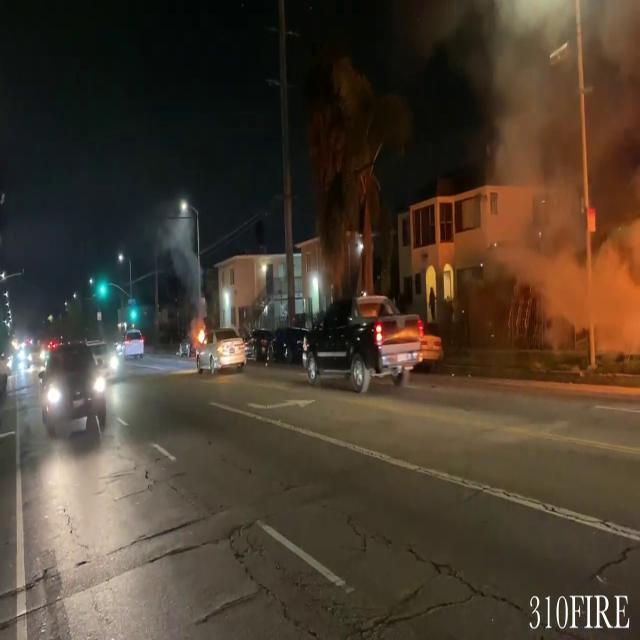Smoke: (480, 1, 640, 354)
